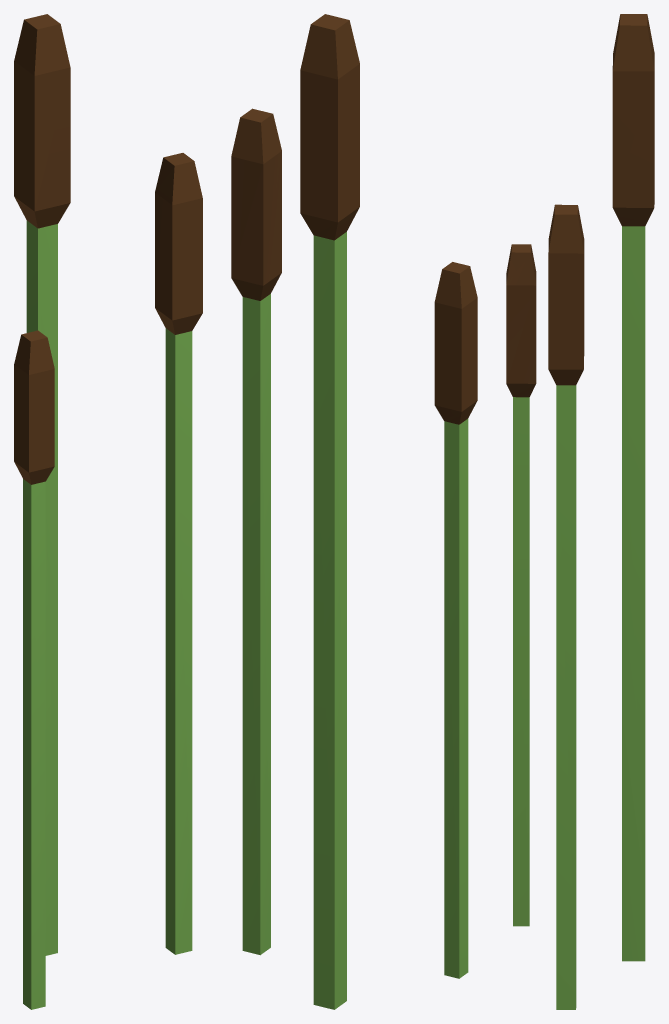
Rendered from reed_cattail.glb.
3 views of the same model, side by side, from view 1: azimuth 30°, elevation 25°; view 2: azimuth 150°, elevation 25°; view 3: azimuth 270°, elevation 25° (orthographic). The views are drawn at different scales.
Visible parts, largest first — view 1: Reed Single; view 2: Reed Single; view 3: Reed Single.
Boxes of the visible parts, x1,y1,x2,y2 form: Reed Single: [14, 14, 202, 1009]; Reed Single: [231, 14, 477, 1009]; Reed Single: [506, 14, 654, 1009].
Size of the model in its own units: 0.1318 by 0.6 by 0.0862.
Materials: 1 (1 with a texture image).
